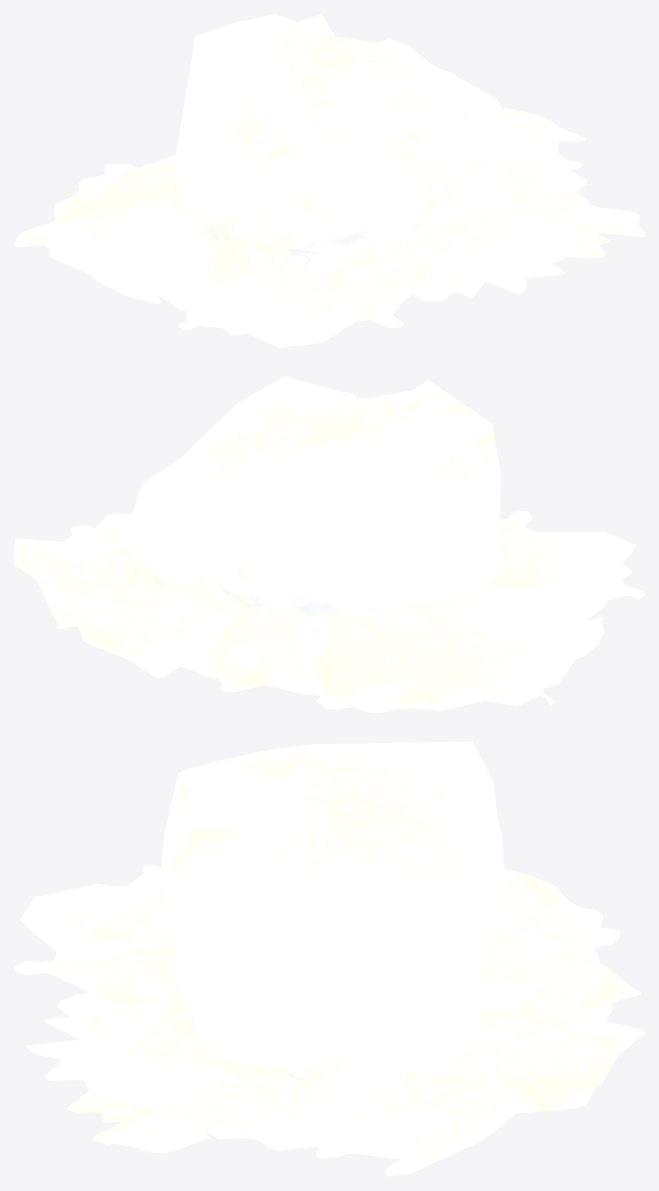
File: rock_mossy.glb
3 renders of one model, top to bottom at view 1: azimuth 30°, elevation 25°; view 2: azimuth 150°, elevation 25°; view 3: azimuth 270°, elevation 25°, orthographic. The views are drawn at different scales.
Size of the model in its own units: 1.89 by 0.5703 by 1.5.
1 material, 1 textured.
